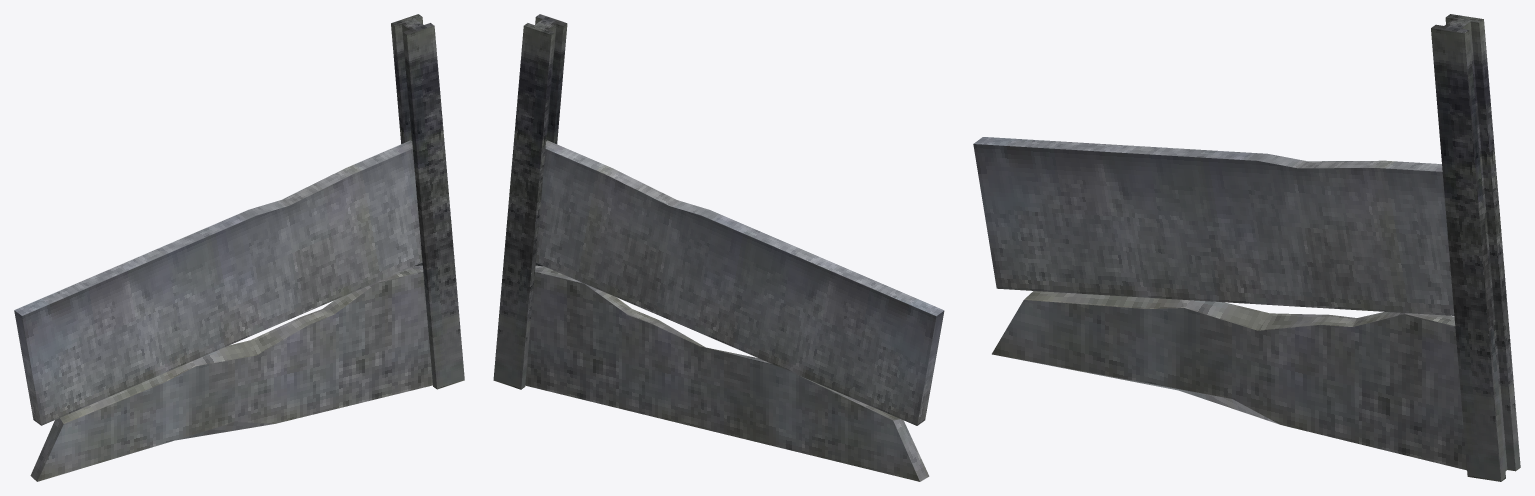
The model's file is lf_plackard_broken_slanted.glb.
3 renders of one model, left to right at view 1: azimuth 30°, elevation 25°; view 2: azimuth 150°, elevation 25°; view 3: azimuth 330°, elevation 25°, orthographic. The views are drawn at different scales.
Visible parts, largest first — view 1: plackard_broken_slanted; view 2: plackard_broken_slanted; view 3: plackard_broken_slanted.
Boxes of the visible parts, bbox=[...] form: plackard_broken_slanted: bbox=[14, 14, 464, 481]; plackard_broken_slanted: bbox=[493, 14, 944, 481]; plackard_broken_slanted: bbox=[973, 14, 1520, 481].
Bounding box in the file's own units: 3.16 × 2.51 × 0.2.
1 material, 1 textured.
